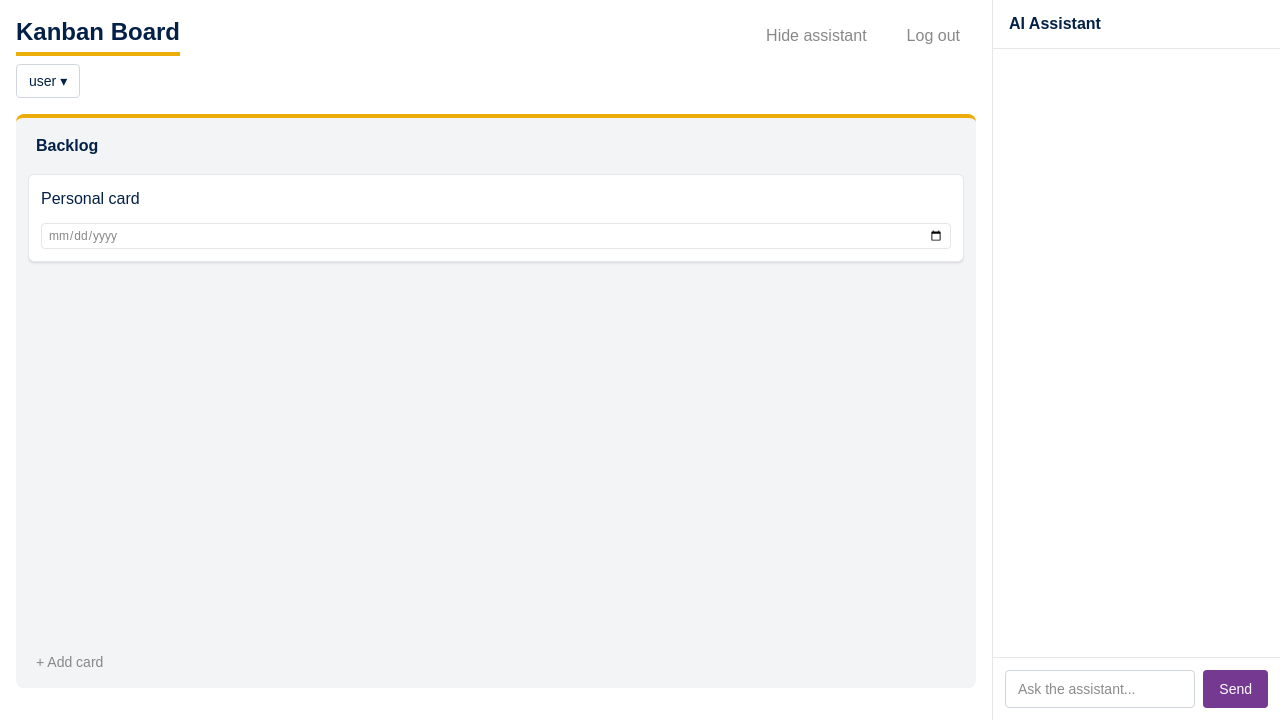
App › switches to a project board and shows its own cards
The image size is (1280, 720).
Check: the text "Personal card" is shown, box [41,190,140,207]
Click the button "user ▾". click: (48, 81)
box: [16,64,80,98]
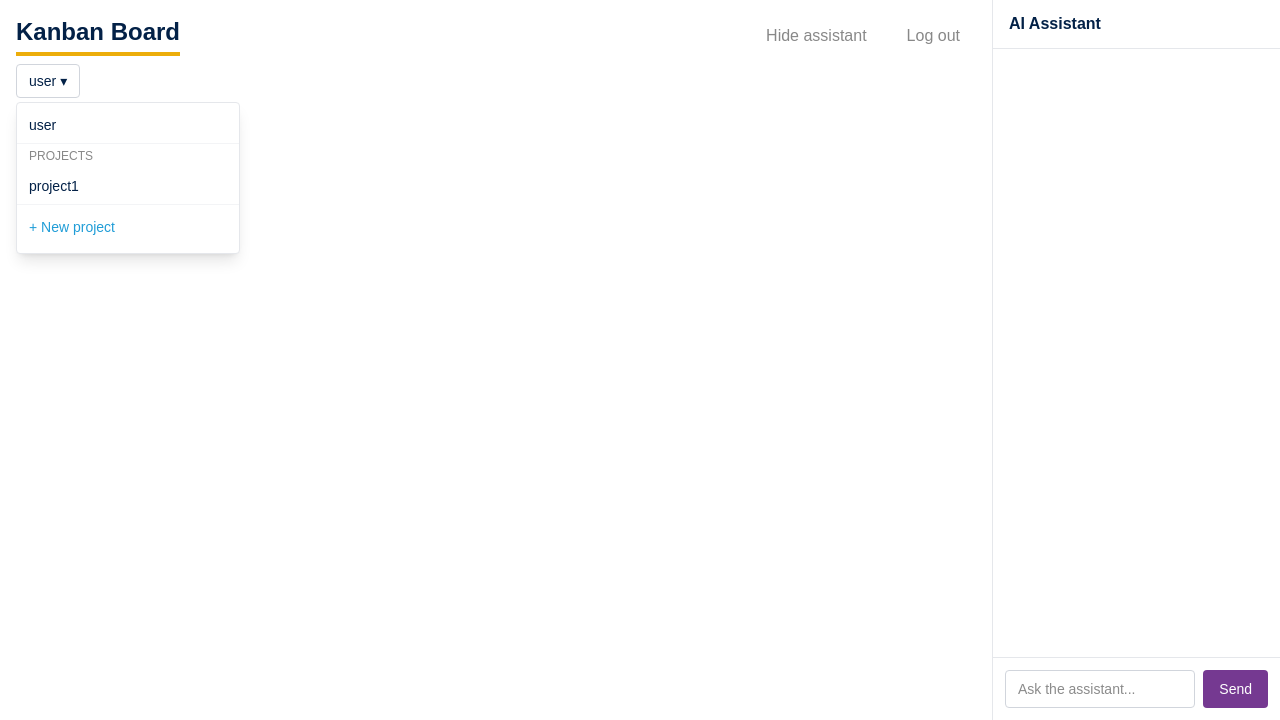
Click the button "project1". click: (128, 186)
box: [17,168,239,204]
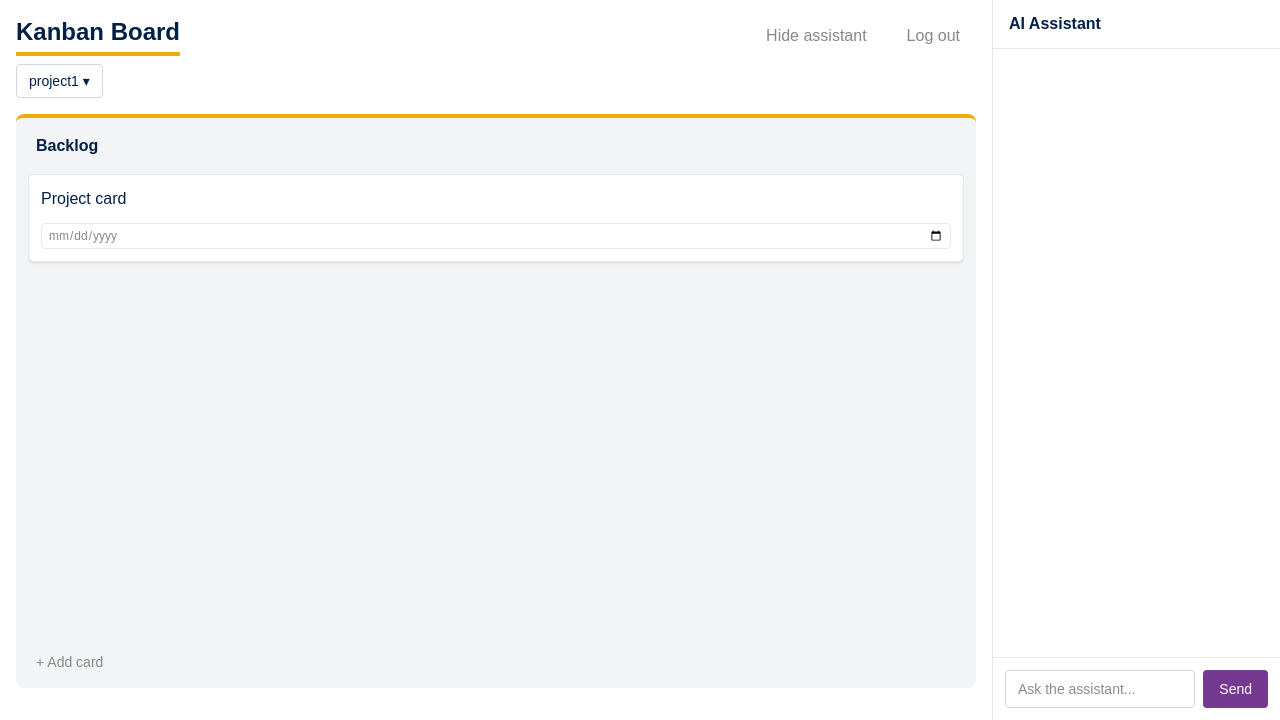
Check: the button "Personal card" is not shown
Check: the text "Project card" is shown, box [41,190,126,207]
